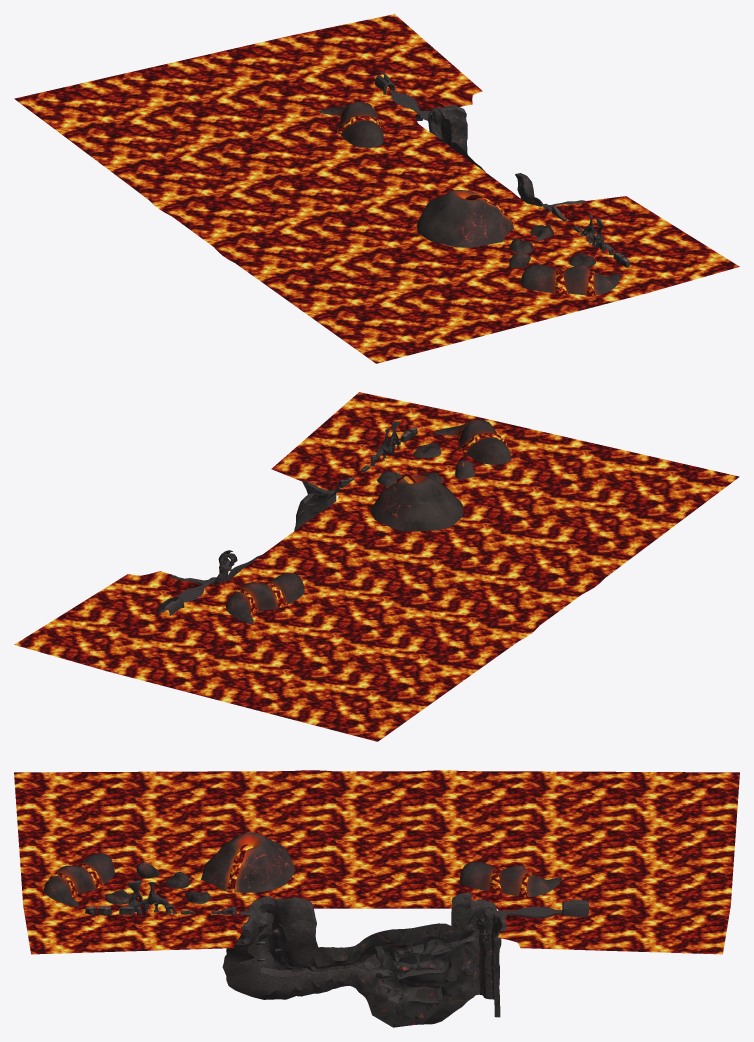
The model's file is temp level.fbx.
3 views of the same model, one above another, from view 1: azimuth 30°, elevation 25°; view 2: azimuth 150°, elevation 25°; view 3: azimuth 270°, elevation 25° (orthographic).
Parts seen in each view (by area): view 1: lavaRef.001, Volcano, cave, MountainFalls, MountainFalls.001, Random Rocks; view 2: lavaRef.001, Volcano, cave, MountainFalls.001, MountainFalls, Random Rocks; view 3: lavaRef.001, cave, Volcano, MountainFalls.001, MountainFalls, Random Rocks, platform03.
Part boxes in pixels (left/top/right/bottom): lavaRef.001: left=14, top=14, right=739, bottom=363; Volcano: left=417, top=190, right=513, bottom=247; cave: left=375, top=71, right=585, bottom=211; MountainFalls: left=520, top=264, right=621, bottom=295; MountainFalls.001: left=318, top=101, right=383, bottom=147; Random Rocks: left=509, top=225, right=595, bottom=268; lavaRef.001: left=14, top=392, right=739, bottom=741; Volcano: left=370, top=475, right=462, bottom=531; cave: left=158, top=480, right=340, bottom=615; MountainFalls.001: left=226, top=573, right=304, bottom=623; MountainFalls: left=433, top=419, right=511, bottom=464; Random Rocks: left=377, top=442, right=475, bottom=486; lavaRef.001: left=14, top=770, right=739, bottom=954; cave: left=222, top=891, right=588, bottom=1027; Volcano: left=201, top=832, right=295, bottom=892; MountainFalls.001: left=459, top=861, right=561, bottom=896; MountainFalls: left=44, top=853, right=115, bottom=906; Random Rocks: left=105, top=862, right=211, bottom=904; platform03: left=119, top=880, right=176, bottom=914.
Size of the model in its own units: 737 by 278 by 1228.
